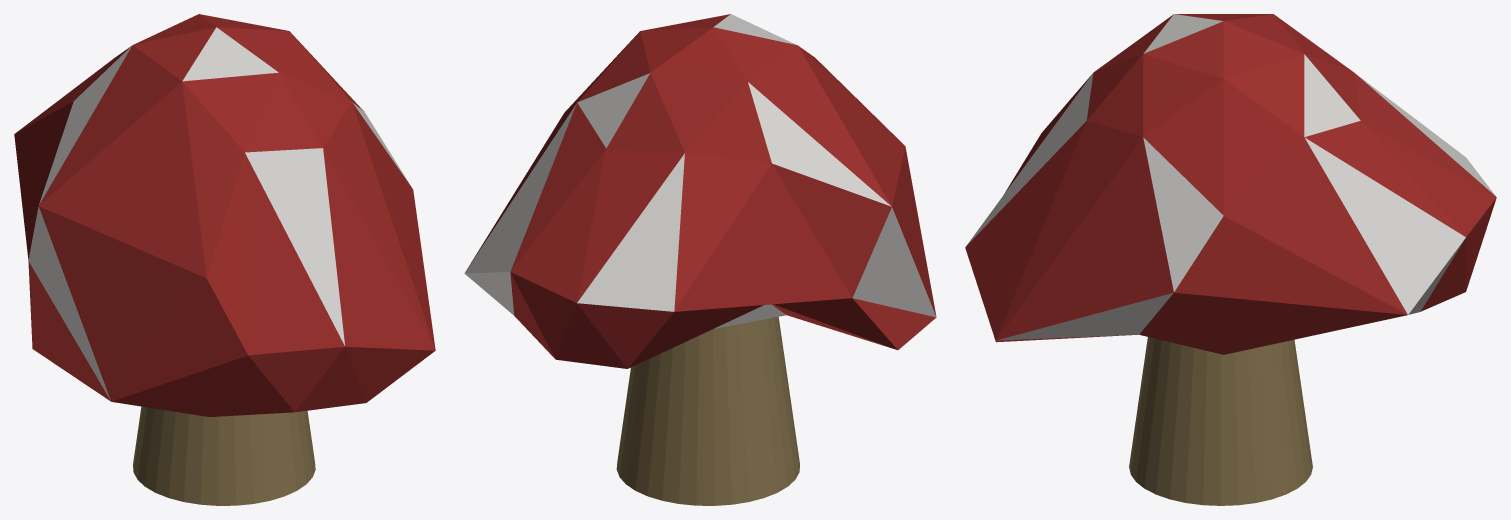
File: paddestoel.fbx
3 renders of one model, left to right at view 1: azimuth 30°, elevation 25°; view 2: azimuth 150°, elevation 25°; view 3: azimuth 270°, elevation 25°, orthographic.
Visible parts, largest first — view 1: Icosphere, Cylinder; view 2: Icosphere, Cylinder; view 3: Icosphere, Cylinder.
Part boxes in pixels (bbox=[...]): Icosphere: bbox=[14, 14, 435, 416]; Cylinder: bbox=[133, 406, 315, 505]; Icosphere: bbox=[464, 14, 936, 368]; Cylinder: bbox=[616, 317, 799, 505]; Icosphere: bbox=[965, 14, 1496, 354]; Cylinder: bbox=[1129, 337, 1312, 505].
Bounding box in the file's own units: 256 × 303 × 330.
